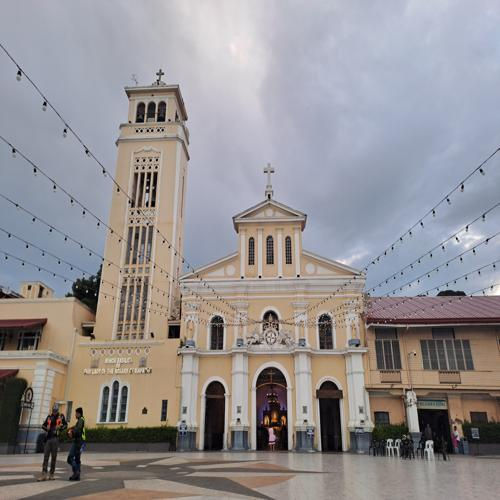Manaoag Church: (63, 62, 379, 464)
